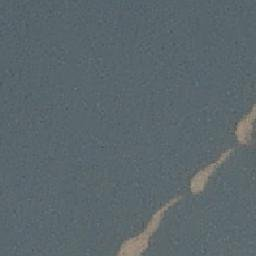debris: (115, 232, 158, 255), (235, 104, 256, 146), (189, 163, 217, 194), (154, 197, 183, 211), (141, 214, 164, 229), (211, 150, 235, 161)
